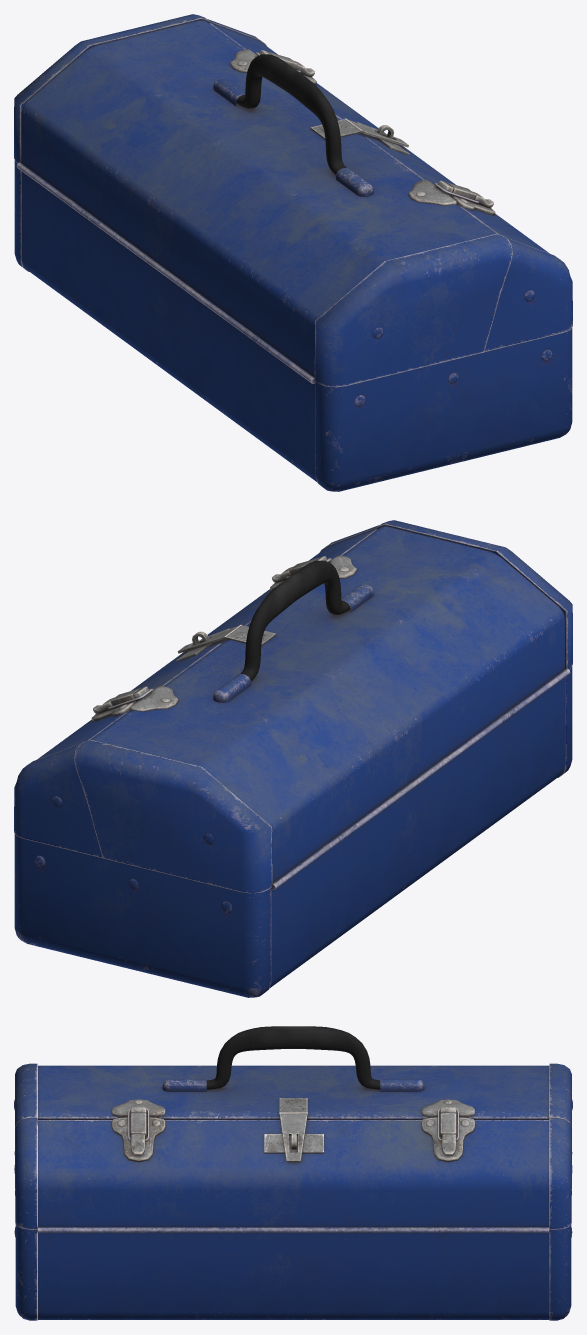
File: Tool Box.obj
The picture shows the model from 3 angles, top to bottom: view 1: azimuth 30°, elevation 25°; view 2: azimuth 150°, elevation 25°; view 3: azimuth 270°, elevation 25°; orthographic projection. The views are drawn at different scales.
Parts seen in each view (by area): view 1: Tool_Box.002; view 2: Tool_Box.002; view 3: Tool_Box.002.
Part boxes in pixels (box(x1,y1,x2,y2)): Tool_Box.002: box(14, 14, 572, 491); Tool_Box.002: box(14, 520, 572, 997); Tool_Box.002: box(14, 1026, 572, 1320).
Bounding box in the file's own units: 2.34 × 2.45 × 5.04.
